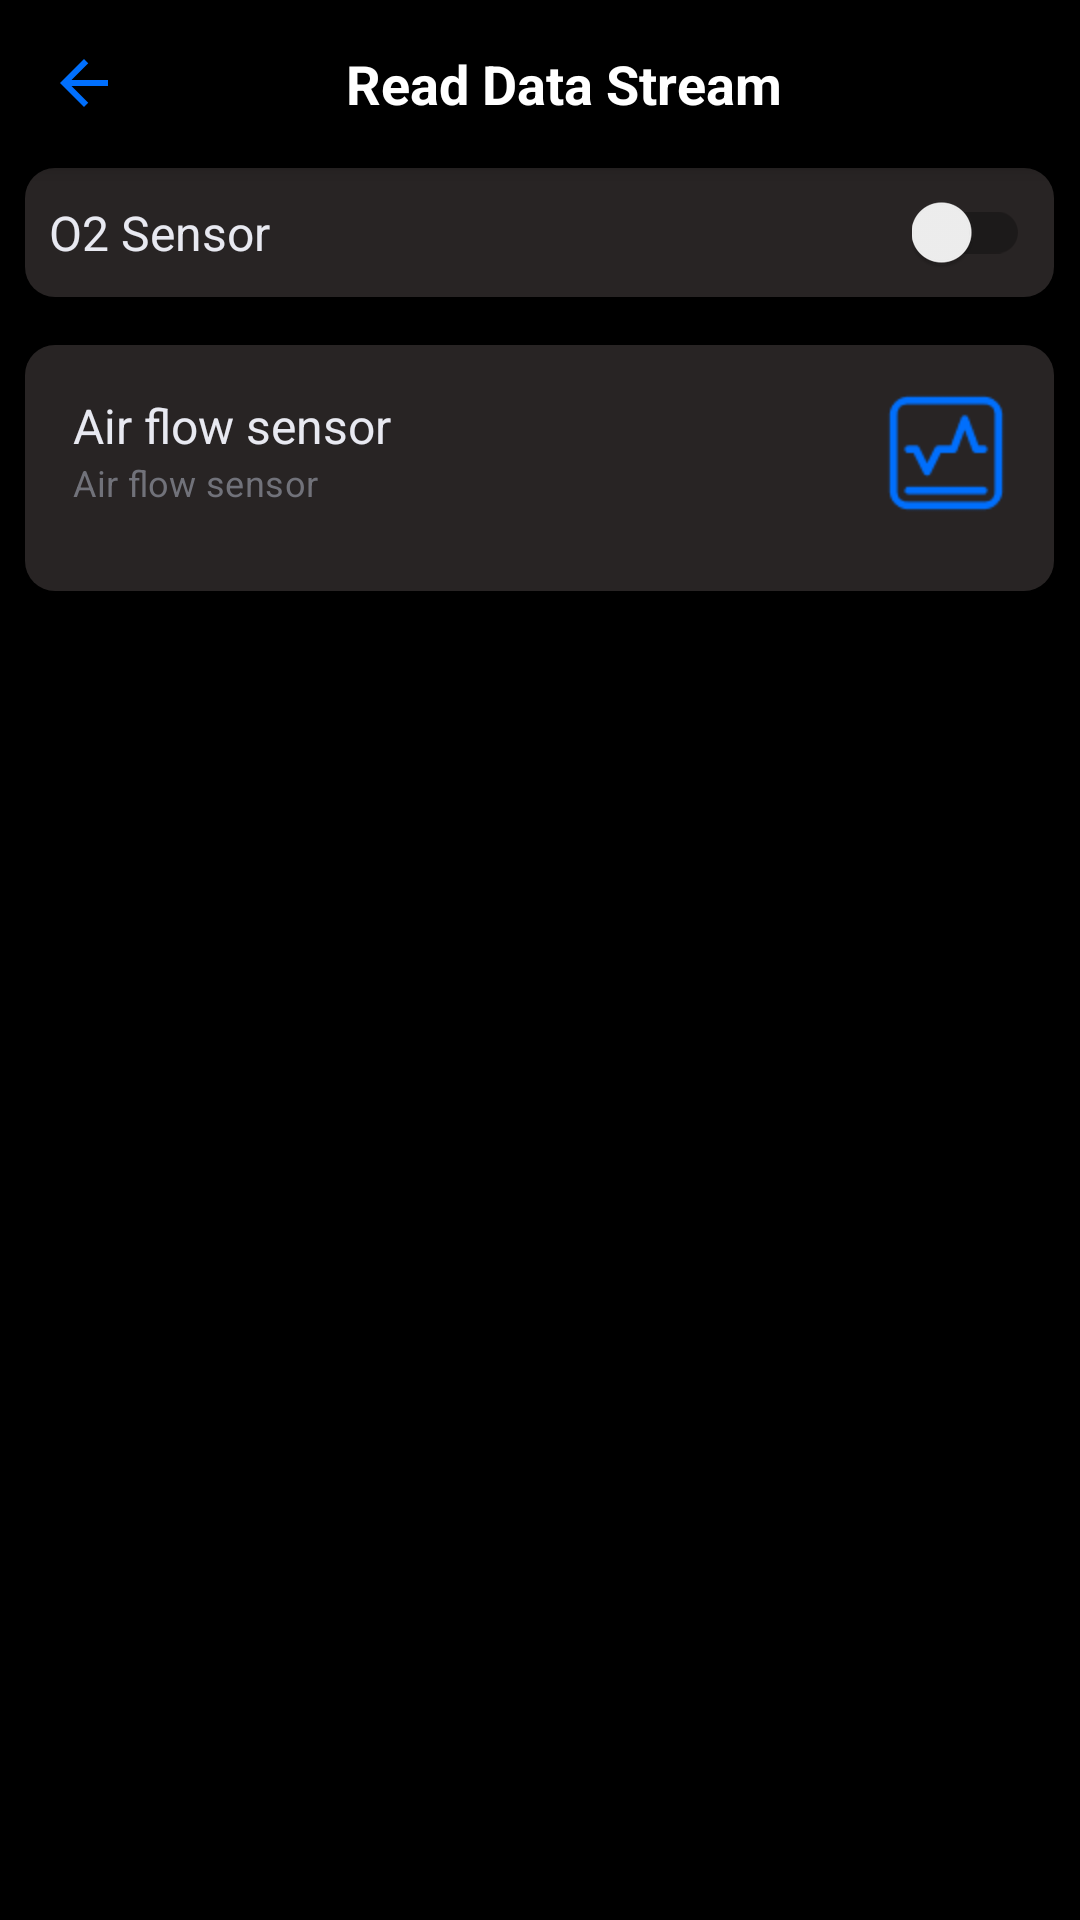

Icons on this 1080 × 1920 Android screen, each with its box as bbox=[x1, y1, x2, y2]:
arrow back: bbox=[60, 59, 108, 107]
diagnostics: bbox=[889, 396, 1003, 510]
